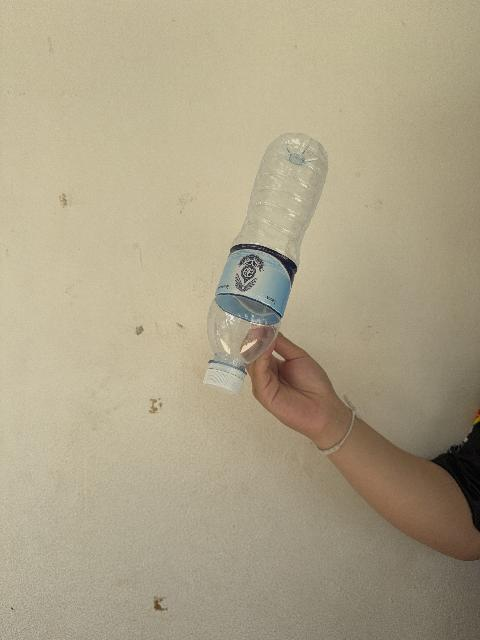bottle: (204, 134, 327, 394)
